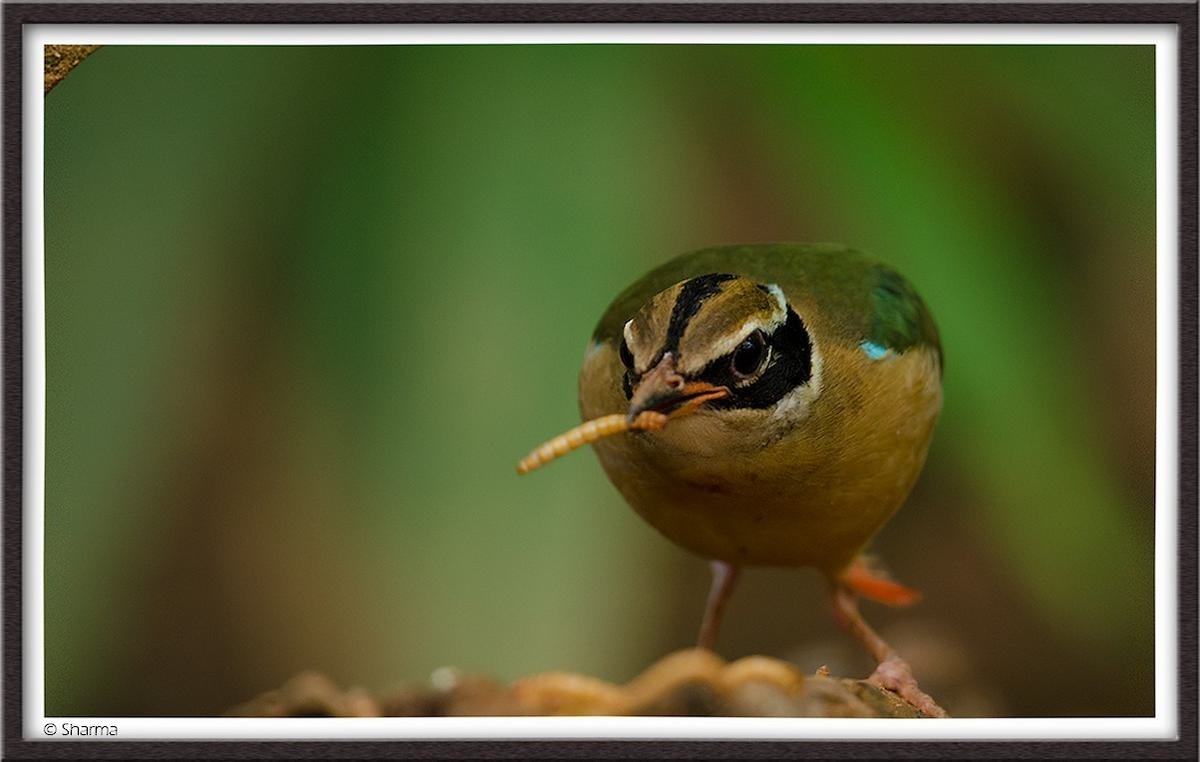pitta: (570, 235, 963, 569)
